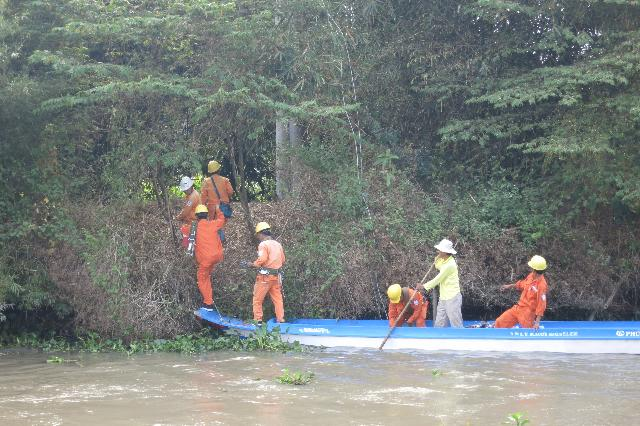gloves: (211, 205, 223, 212)
harness: (184, 219, 198, 262), (251, 265, 290, 279), (403, 285, 415, 318)
helmet: (382, 281, 409, 308), (526, 251, 550, 275), (175, 175, 199, 192), (254, 218, 274, 237), (204, 158, 223, 174), (192, 202, 211, 216)
shoes: (193, 299, 221, 317), (248, 319, 267, 330)
